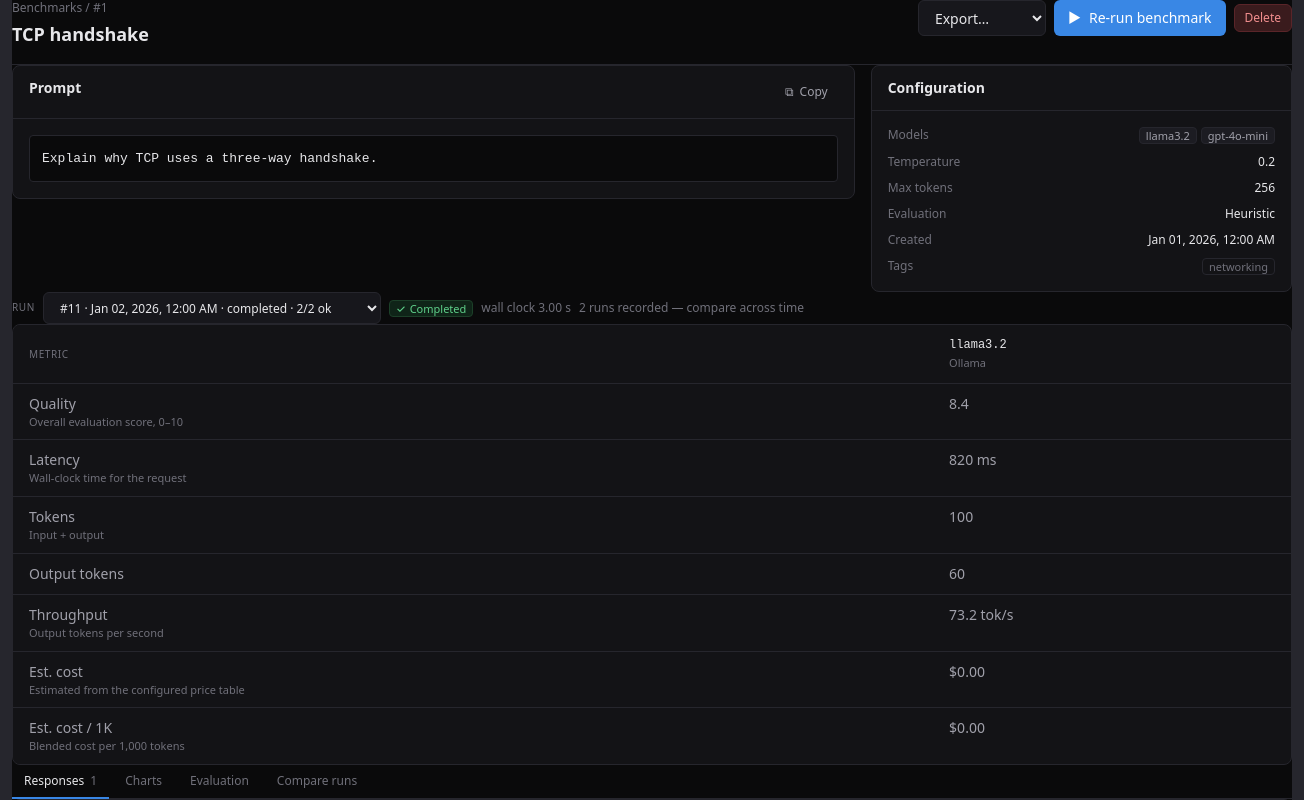
Run comparison › is offered on the results page once a benchmark has two runs
Click the tab "Compare runs". click: (317, 782)
box: [265,765,369,799]
(page scrolled)
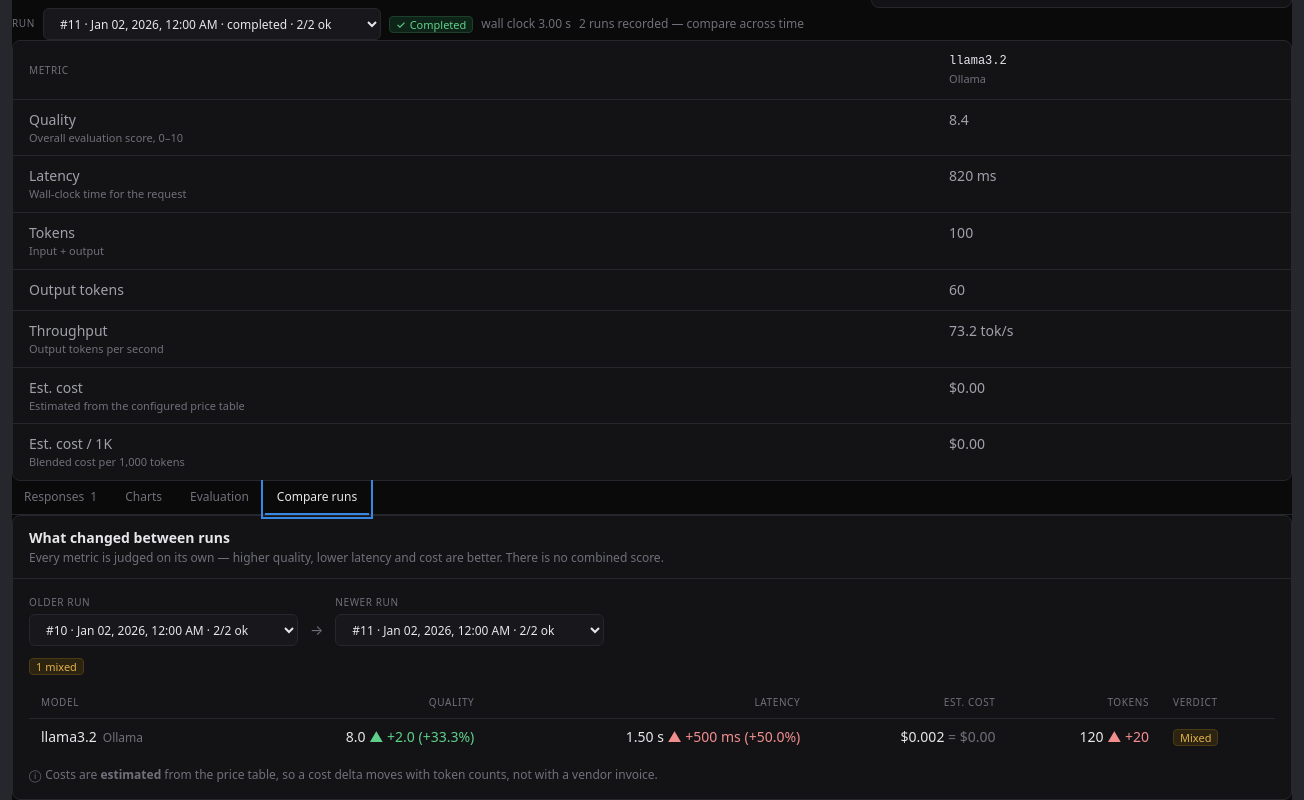
Expected: the heading "What changed between runs" is shown, [29,528,230,547]
